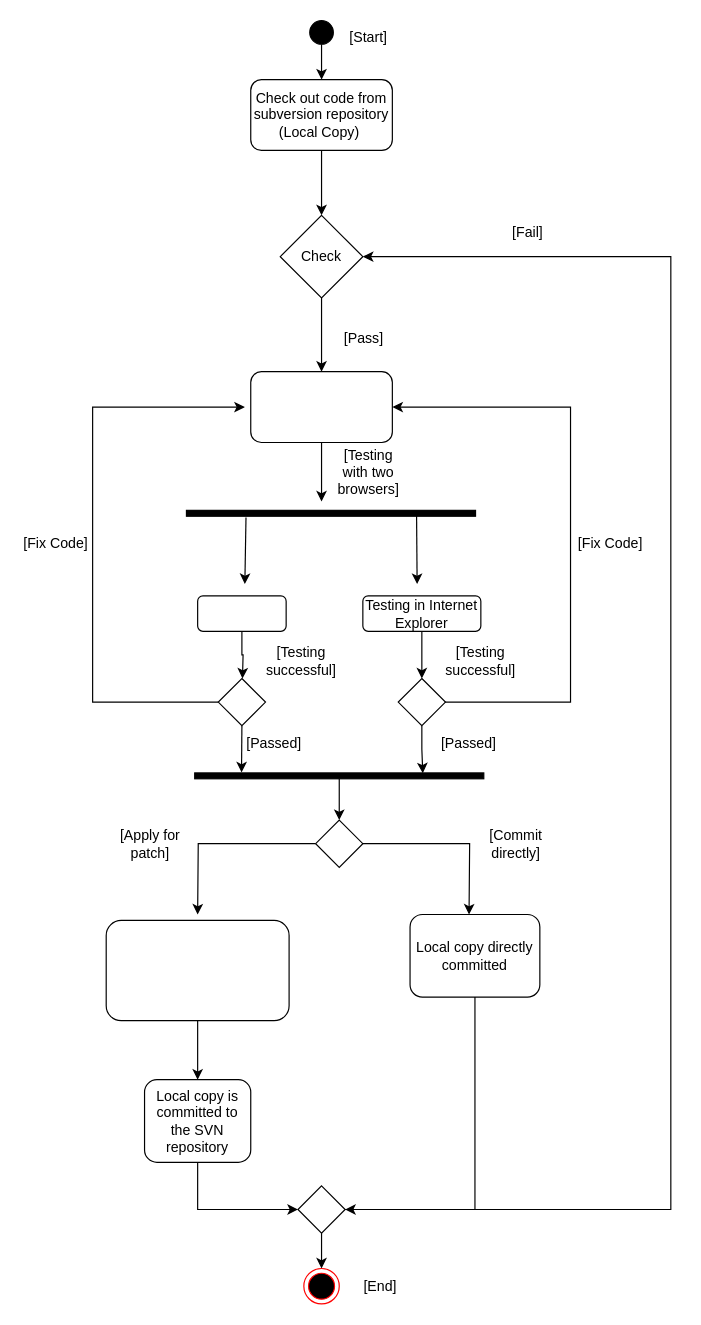
Some shapes in this 701 by 1325 pixel diagram are drawn without their labels. Here are the shapes that lost their labels. From the top down, the box of each, then its label:
(250, 371, 392, 442): Make modifications to Local Copy.
(196, 595, 286, 631): Testing in firefox
(105, 919, 289, 1021): Patch generated from local copy and applied to the production code
